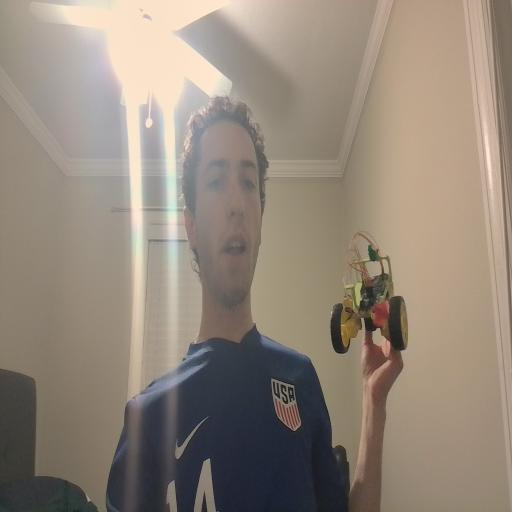green LEGO minifig: (367, 241, 380, 264)
